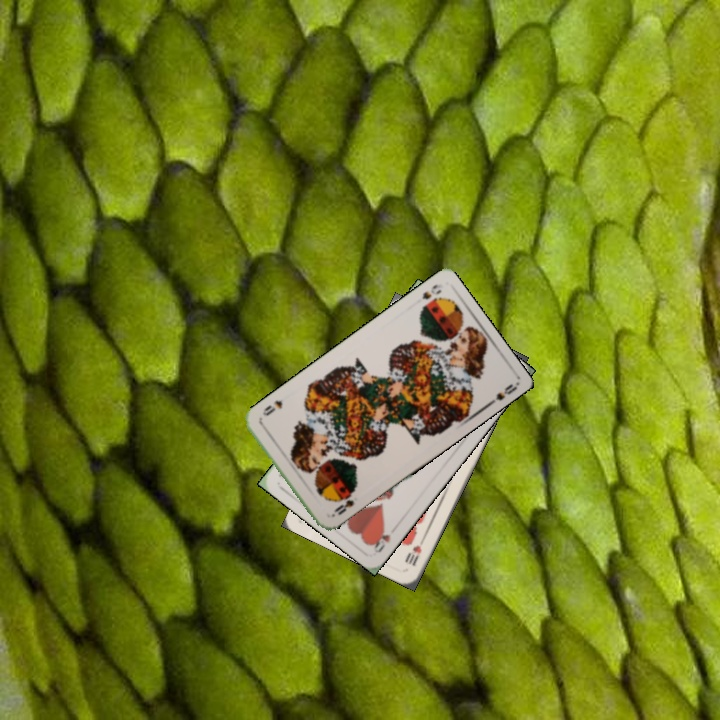H10: (402, 541, 424, 568)
HO: (368, 524, 393, 555)
SO: (329, 496, 357, 518), (418, 280, 444, 302)
